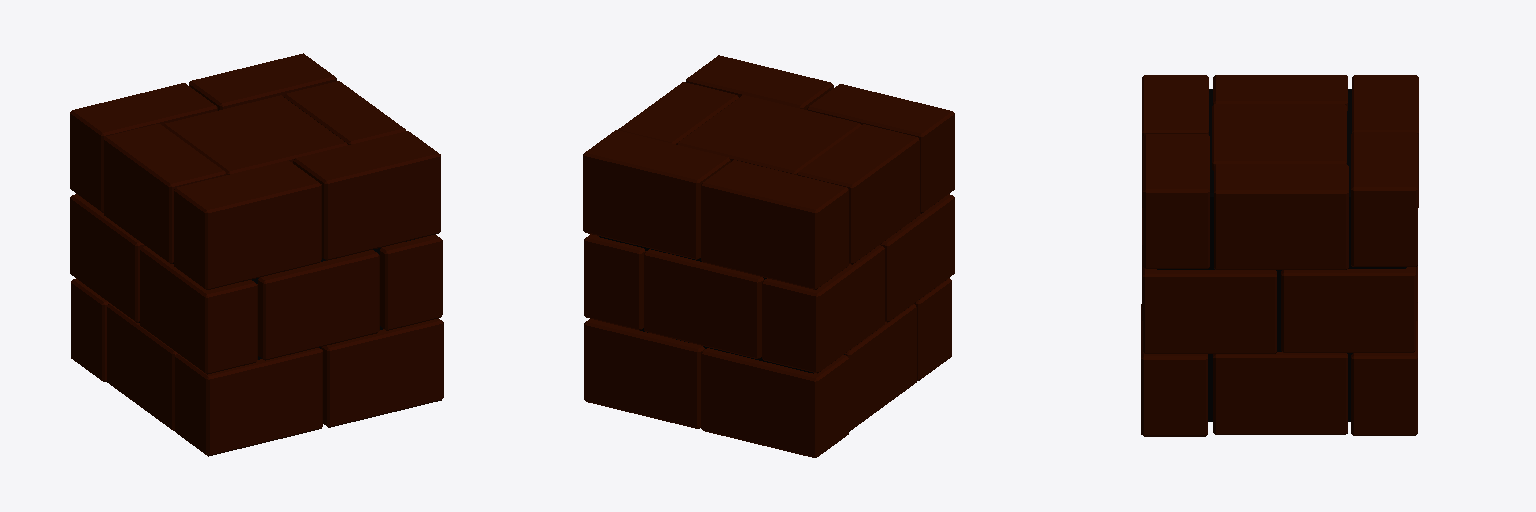
Rendered from Block2.obj.
The picture shows the model from 3 angles: view 1: azimuth 30°, elevation 25°; view 2: azimuth 150°, elevation 25°; view 3: azimuth 270°, elevation 25°; orthographic projection.
Visible parts, largest first — view 1: Cube.002; view 2: Cube.002; view 3: Cube.002.
Boxes of the visible parts, x1,y1,x2,y2 form: Cube.002: [70, 53, 443, 456]; Cube.002: [583, 55, 954, 457]; Cube.002: [1141, 75, 1418, 436].
Size of the model in its own units: 1.68 by 1.68 by 1.69.